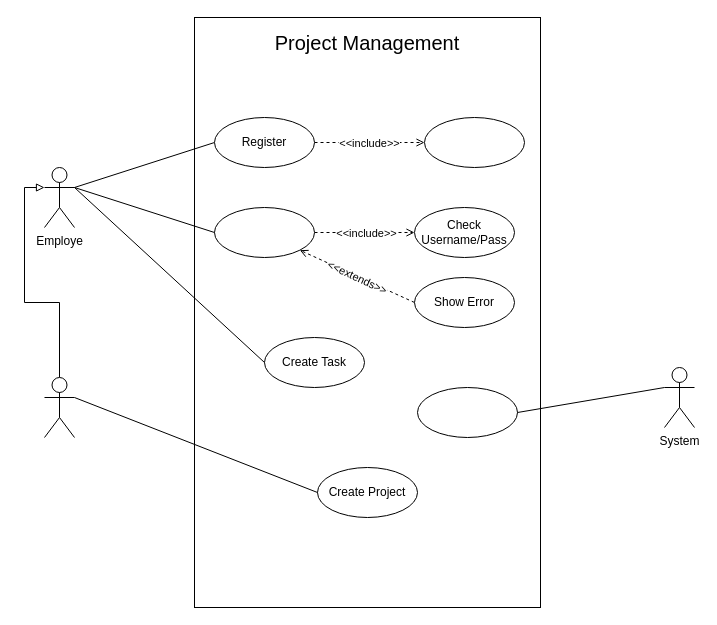
The diagram is 717 pixels wide and 625 high, and some of its shapes have lost their labels. Each missing label, with the box of its shape:
Leader: (44, 376, 74, 438)
Log in: (214, 206, 314, 258)
role: (416, 386, 518, 438)
Verify Email: (424, 116, 524, 168)
